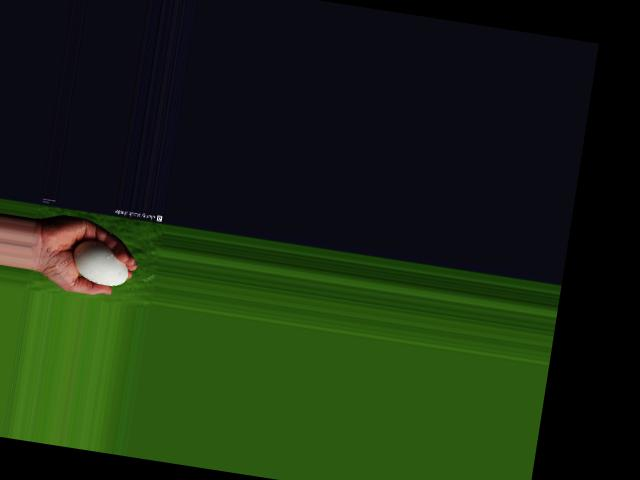egg: (68, 236, 131, 288)
